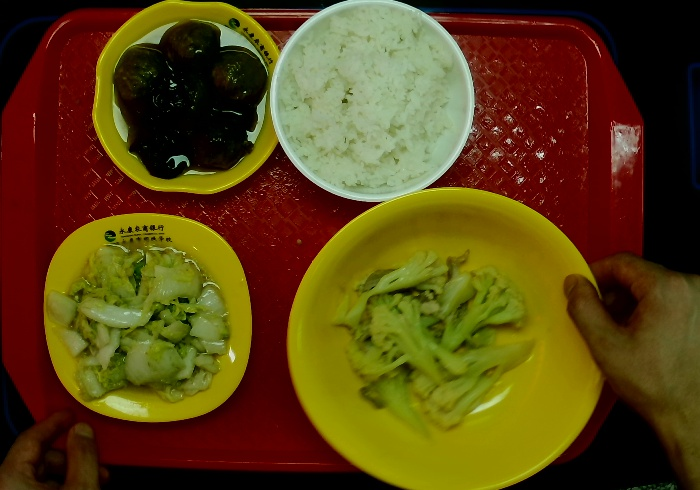YKMZ-Fan_Wan: (265, 1, 477, 207)
YKMZ-Huang_Se_Ao_Bian_Wan: (87, 1, 288, 196)
YKMZ-Huang_Se_Fang_Die: (38, 212, 255, 423)
YKMZ-Huang_Se_Tang_Wan: (283, 185, 606, 490)
